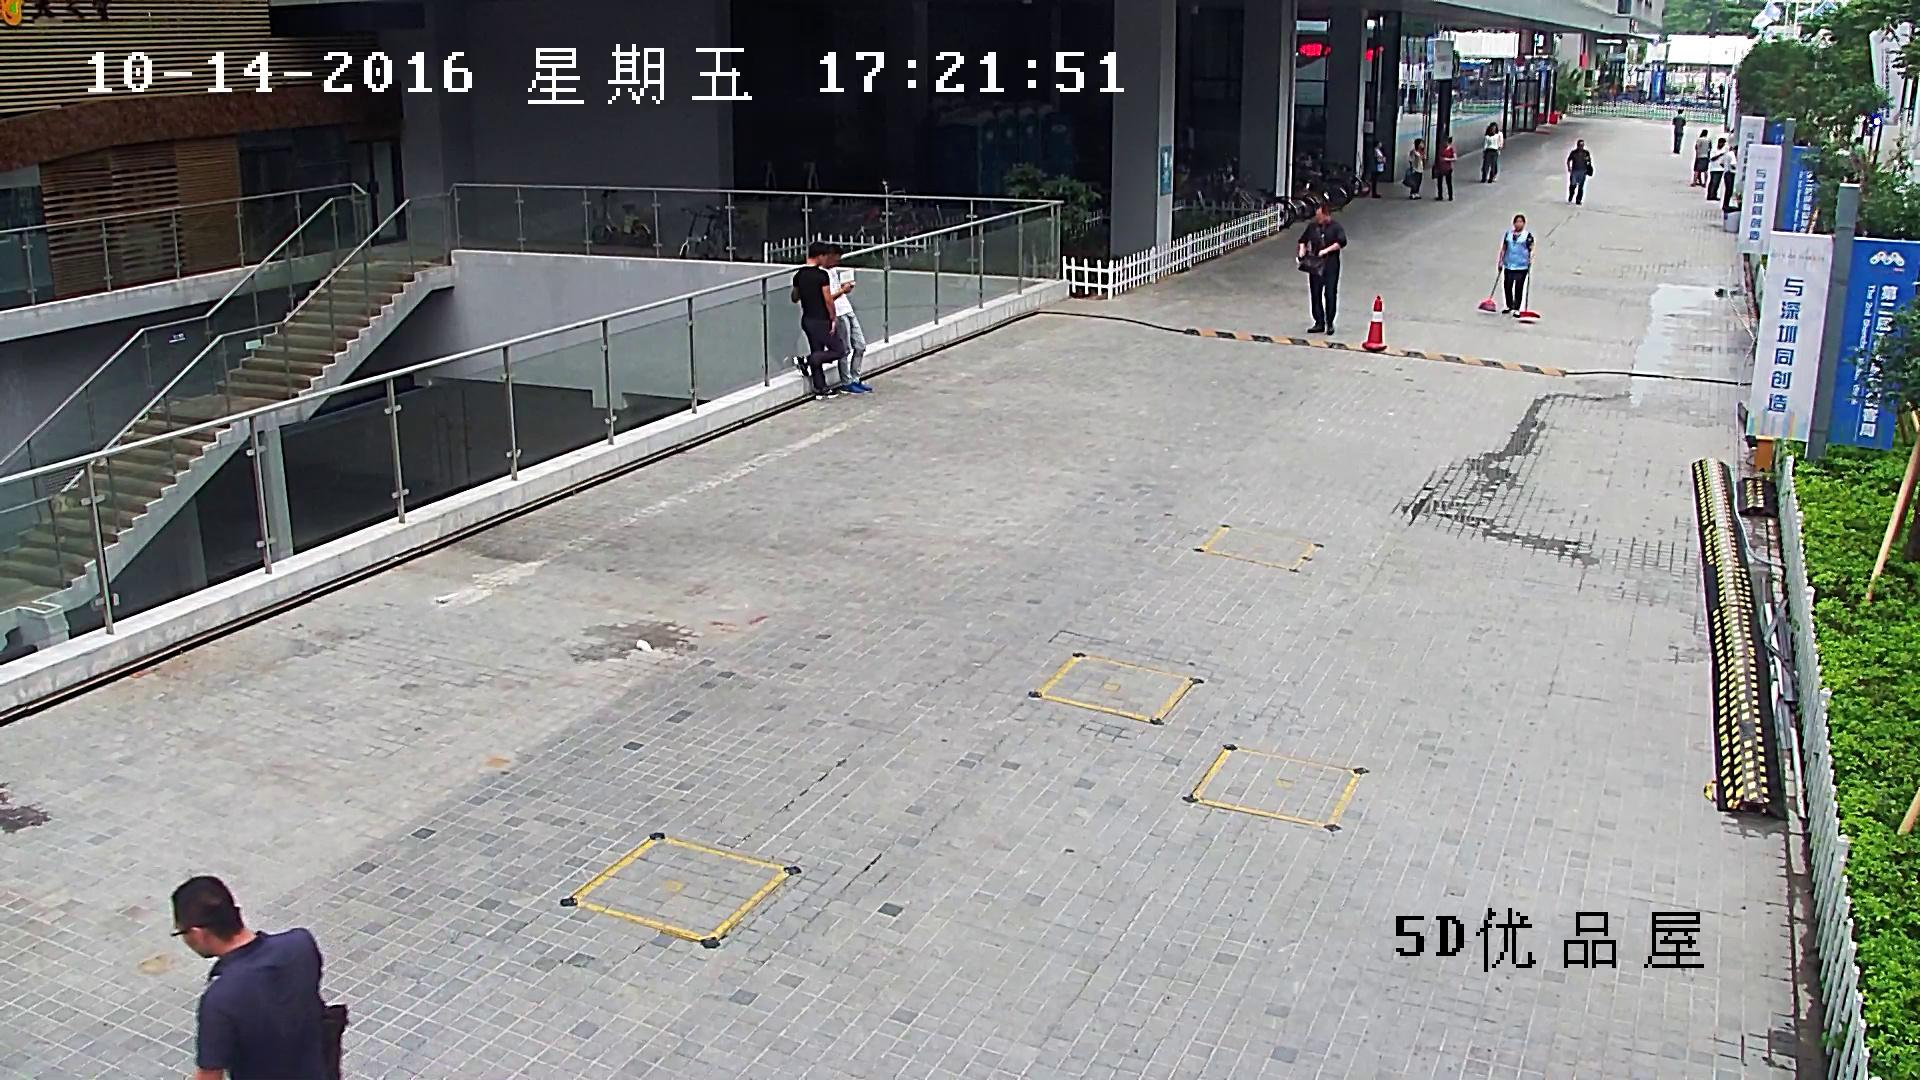person: (170, 875, 347, 1080), (791, 242, 849, 399), (818, 243, 871, 394), (1296, 204, 1347, 336), (1477, 214, 1539, 317), (1497, 214, 1533, 317), (1566, 138, 1593, 205), (1402, 138, 1427, 200), (1432, 136, 1456, 201), (1688, 129, 1712, 187), (1480, 122, 1503, 180), (1366, 137, 1387, 198), (1720, 145, 1737, 212), (1706, 137, 1724, 199), (1480, 125, 1498, 182), (1847, 136, 1867, 182), (1672, 109, 1685, 154)
